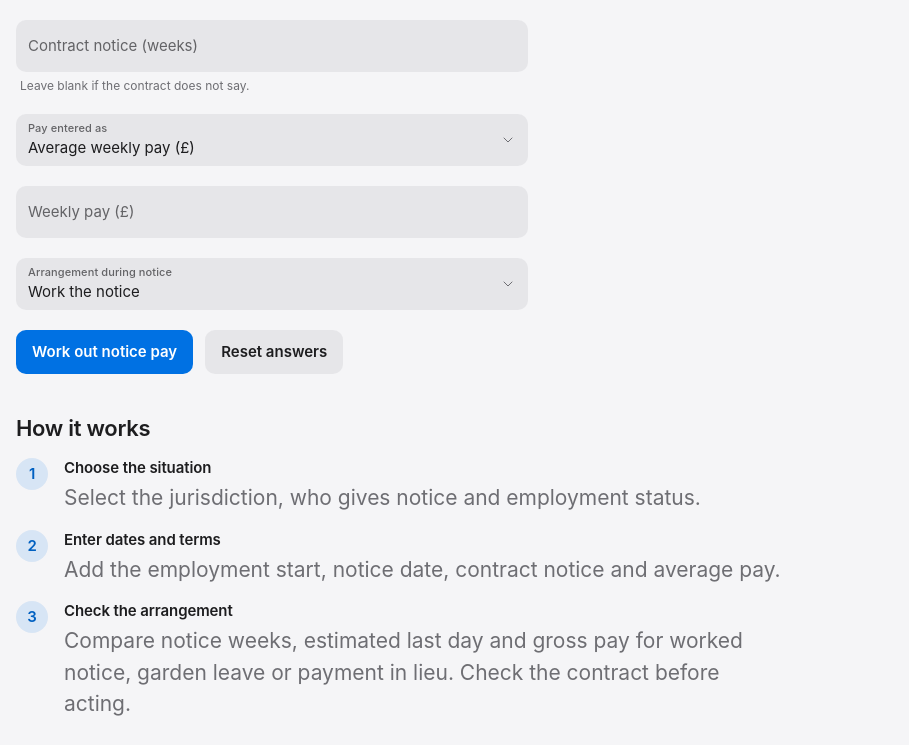
Test case: uk notice pay calculator page › reports a validation error
This screenshot has width=909, height=745.
(page scrolled)
Click the button "Work out notice pay".
click(105, 352)  # box [16,330,193,374]
(page scrolled)
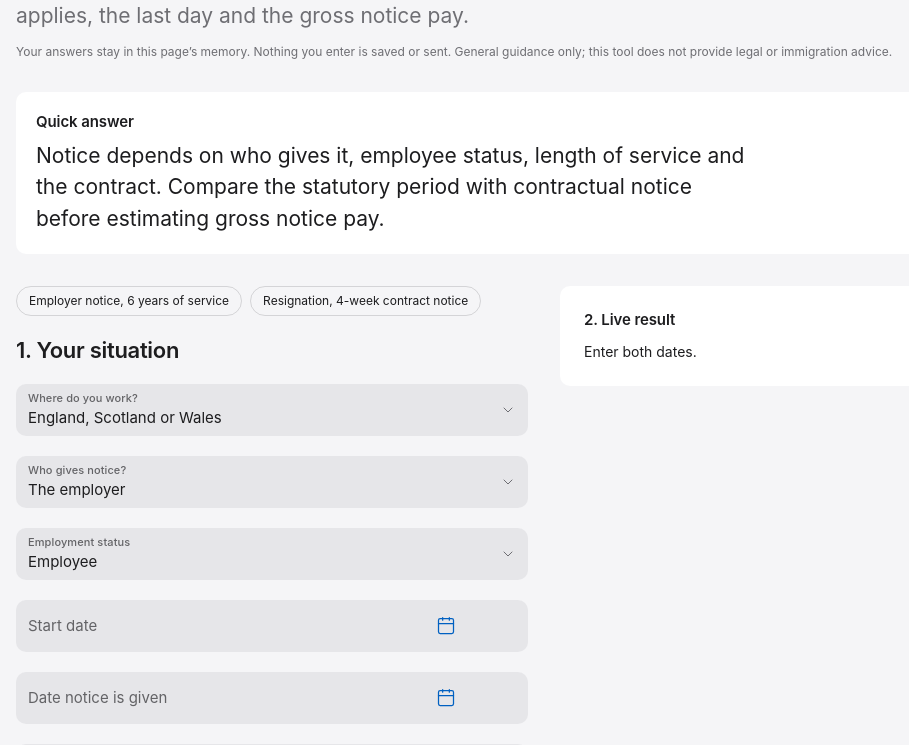
Check: the text "Enter both dates." is shown, box [584,343,697,360]
